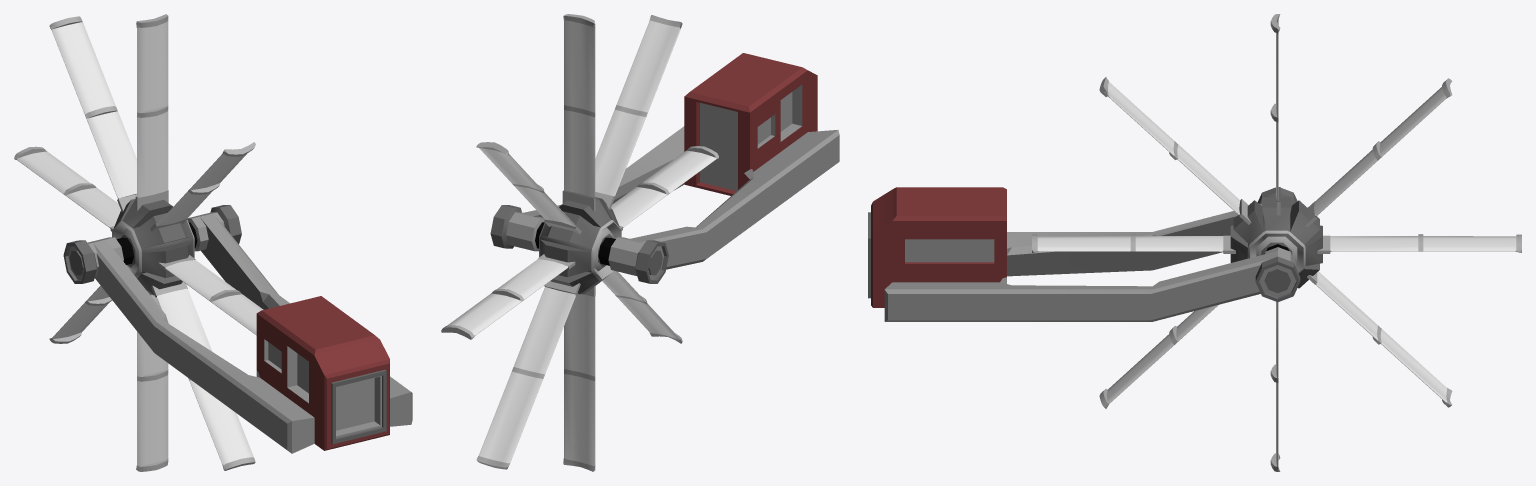
Rendered from propeller.fbx.
3 views of the same model, side by side, from view 1: azimuth 30°, elevation 25°; view 2: azimuth 150°, elevation 25°; view 3: azimuth 270°, elevation 25° (orthographic).
Visible parts, largest first — view 1: Cylinder, Cube; view 2: Cylinder, Cube; view 3: Cube, Cylinder.
Part boxes in pixels (left/top/right/bottom): Cylinder: left=14, top=14, right=263, bottom=471; Cube: left=63, top=205, right=412, bottom=453; Cylinder: left=441, top=14, right=718, bottom=471; Cube: left=490, top=53, right=839, bottom=283; Cube: left=868, top=187, right=1300, bottom=321; Cylinder: left=1032, top=14, right=1521, bottom=471.
Bounding box in the file's own units: 995 × 2740 × 3656.
